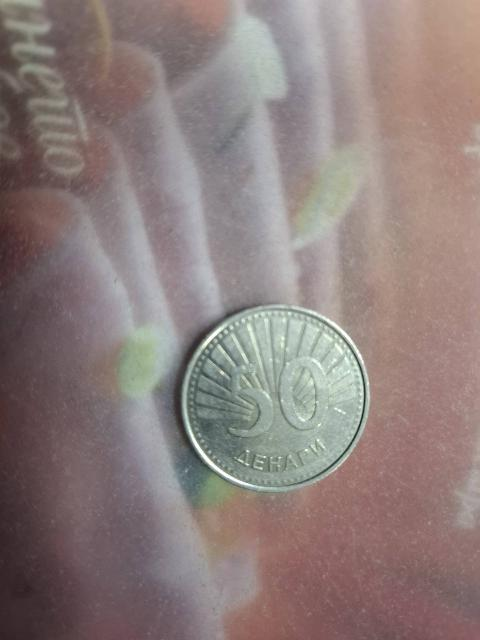50_coin: (178, 298, 379, 492)
